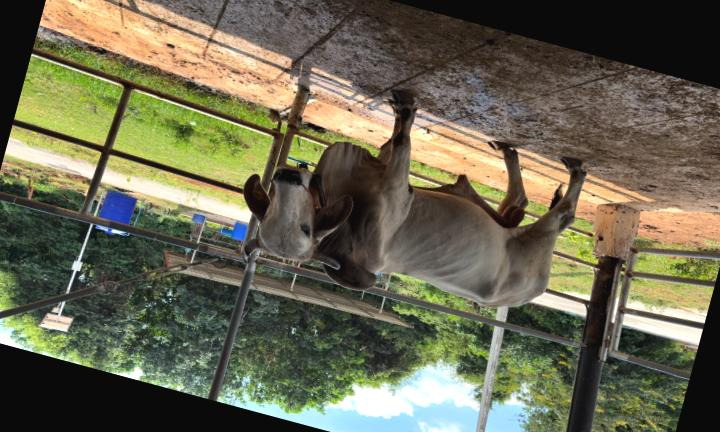Brahman: (243, 91, 585, 307)
